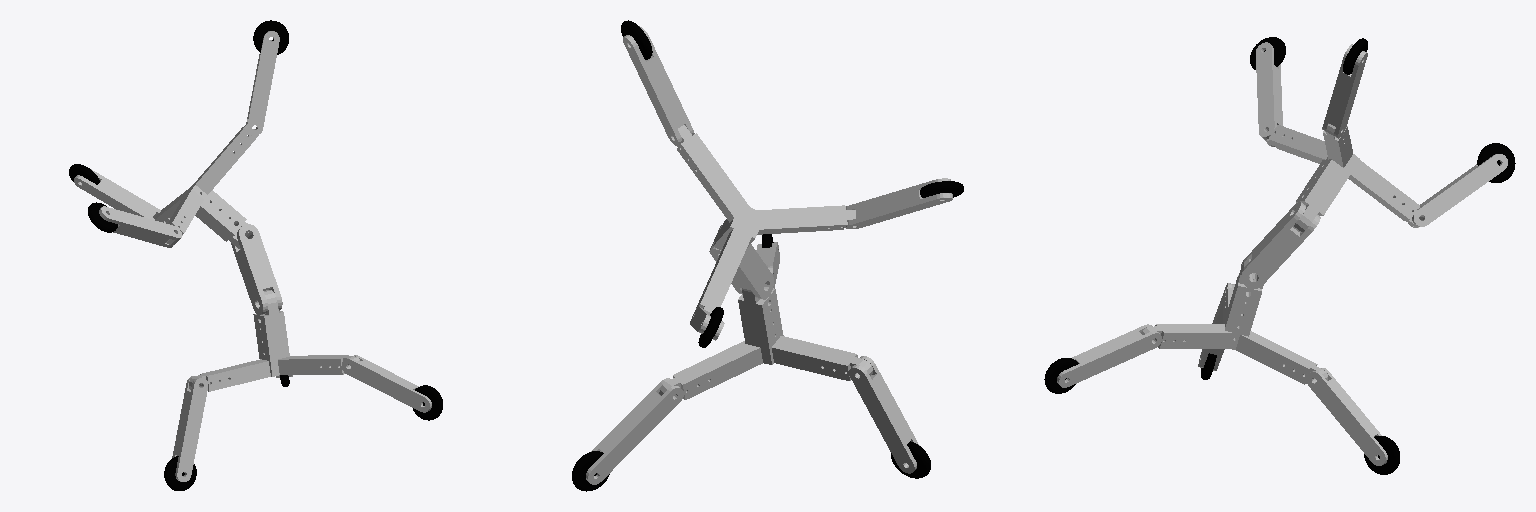
robot.urdf — robot2:
<?xml version="1.0" encoding="utf-8"?>
<!-- This URDF was automatically created by SolidWorks to URDF Exporter! Originally created by [author] ([email redacted]) 
     Commit Version: 1.5.0-0-g9aa0fdb  Build Version: 1.5.7004.21443
     For more information, please see http://wiki.ros.org/sw_urdf_exporter -->
<robot
  name="robot2">
  <link
    name="base_link">
    <inertial>
      <origin
        xyz="0.0013253 -0.025154 -0.093447"
        rpy="0 0 0" />
      <mass
        value="0.12947" />
      <inertia
        ixx="0.00021534"
        ixy="-2.1268E-08"
        ixz="-7.7687E-08"
        iyy="0.00022183"
        iyz="2.4937E-05"
        izz="0.00030609" />
    </inertial>
    <visual>
      <origin
        xyz="0 0 0"
        rpy="0 0 0" />
      <geometry>
        <mesh
          filename="package://robot2/meshes/base_link.STL" />
      </geometry>
      <material
        name="">
        <color
          rgba="0.74902 0.74902 0.74902 1" />
      </material>
    </visual>
    <collision>
      <origin
        xyz="0 0 0"
        rpy="0 0 0" />
      <geometry>
        <mesh
          filename="package://robot2/meshes/base_link.STL" />
      </geometry>
    </collision>
  </link>
  <link
    name="connector">
    <inertial>
      <origin
        xyz="-0.00138 -0.038 5.2042E-18"
        rpy="0 0 0" />
      <mass
        value="0.04386" />
      <inertia
        ixx="2.6136E-05"
        ixy="1.1316E-20"
        ixz="-6.0877E-22"
        iyy="5.047E-06"
        iyz="2.9646E-21"
        izz="2.6136E-05" />
    </inertial>
    <visual>
      <origin
        xyz="0 0 0"
        rpy="0 0 0" />
      <geometry>
        <mesh
          filename="package://robot2/meshes/connector.STL" />
      </geometry>
      <material
        name="">
        <color
          rgba="0.74902 0.74902 0.74902 1" />
      </material>
    </visual>
    <collision>
      <origin
        xyz="0 0 0"
        rpy="0 0 0" />
      <geometry>
        <mesh
          filename="package://robot2/meshes/connector.STL" />
      </geometry>
    </collision>
  </link>
  <joint
    name="connector_j"
    type="revolute">
    <origin
      xyz="0 -0.0090129 -0.034486"
      rpy="-1.3093 0 -3.1416" />
    <parent
      link="base_link" />
    <child
      link="connector" />
    <axis
      xyz="1 0 0" />
    <limit
      lower="0.35"
      upper="0.5225"
      effort="22"
      velocity="22" />
    <safety_controller
      k_velocity="0" />
  </joint>
  <link
    name="base2">
    <inertial>
      <origin
        xyz="-5.4721E-05 -0.061131 6.5919E-17"
        rpy="0 0 0" />
      <mass
        value="0.12947" />
      <inertia
        ixx="0.00021534"
        ixy="-8.0545E-08"
        ixz="-9.7832E-20"
        iyy="0.00031292"
        iyz="1.4791E-19"
        izz="0.000215" />
    </inertial>
    <visual>
      <origin
        xyz="0 0 0"
        rpy="0 0 0" />
      <geometry>
        <mesh
          filename="package://robot2/meshes/base2.STL" />
      </geometry>
      <material
        name="">
        <color
          rgba="0.74902 0.74902 0.74902 1" />
      </material>
    </visual>
    <collision>
      <origin
        xyz="0 0 0"
        rpy="0 0 0" />
      <geometry>
        <mesh
          filename="package://robot2/meshes/base2.STL" />
      </geometry>
    </collision>
  </link>
  <joint
    name="base2j"
    type="revolute">
    <origin
      xyz="-0.00138 -0.076 0"
      rpy="2.4292 -1.5708 -2.2633" />
    <parent
      link="connector" />
    <child
      link="base2" />
    <axis
      xyz="1 0 0" />
    <limit
      lower="0.35"
      upper="0.5225"
      effort="22"
      velocity="22" />
    <safety_controller
      k_velocity="0" />
  </joint>
  <link
    name="L21">
    <inertial>
      <origin
        xyz="-1.94289029309402E-16 0.0480327393085786 -1.04083408558608E-17"
        rpy="0 0 0" />
      <mass
        value="0.0296452830345854" />
      <inertia
        ixx="2.50173044319522E-05"
        ixy="7.59682674568701E-21"
        ixz="1.05879118406788E-22"
        iyy="1.72590748901238E-06"
        iyz="2.5146290621612E-22"
        izz="2.48865166741963E-05" />
    </inertial>
    <visual>
      <origin
        xyz="0 0 0"
        rpy="0 0 0" />
      <geometry>
        <mesh
          filename="package://robot2/meshes/L21.STL" />
      </geometry>
      <material
        name="">
        <color
          rgba="0.749019607843137 0.749019607843137 0.749019607843137 1" />
      </material>
    </visual>
    <collision>
      <origin
        xyz="0 0 0"
        rpy="0 0 0" />
      <geometry>
        <mesh
          filename="package://robot2/meshes/L21.STL" />
      </geometry>
    </collision>
  </link>
  <joint
    name="L21j"
    type="revolute">
    <origin
      xyz="-0.1 -0.0725 0"
      rpy="-3.1416 0 0.069166" />
    <parent
      link="base2" />
    <child
      link="L21" />
    <axis
      xyz="0 0 1" />
    <limit
      lower="0.35"
      upper="0.5225"
      effort="22"
      velocity="22" />
    <safety_controller
      k_velocity="0" />
  </joint>
  <link
    name="W21">
    <inertial>
      <origin
        xyz="-1.02348685082632E-16 -4.44089209850063E-16 3.60822483003176E-16"
        rpy="0 0 0" />
      <mass
        value="0.0100179652990868" />
      <inertia
        ixx="1.88435757818629E-06"
        ixy="4.5908523996693E-23"
        ixz="-5.98878763488392E-22"
        iyy="1.00354188062962E-06"
        iyz="-5.29395592033938E-23"
        izz="1.00354188062962E-06" />
    </inertial>
    <visual>
      <origin
        xyz="0 0 0"
        rpy="0 0 0" />
      <geometry>
        <mesh
          filename="package://robot2/meshes/W21.STL" />
      </geometry>
      <material
        name="">
        <color
          rgba="0.0196078431372549 0.0196078431372549 0.0196078431372549 1" />
      </material>
    </visual>
    <collision>
      <origin
        xyz="0 0 0"
        rpy="0 0 0" />
      <geometry>
        <mesh
          filename="package://robot2/meshes/W21.STL" />
      </geometry>
    </collision>
  </link>
  <joint
    name="W21j"
    type="continuous">
    <origin
      xyz="0 0.1 0"
      rpy="-2.3969 -1.5708 -1.0967" />
    <parent
      link="L21" />
    <child
      link="W21" />
    <axis
      xyz="1 0 0" />
    <safety_controller
      k_velocity="0" />
  </joint>
  <link
    name="L22">
    <inertial>
      <origin
        xyz="-4.5102810375397E-17 0.0480327393085786 -1.73472347597681E-18"
        rpy="0 0 0" />
      <mass
        value="0.0296452830345854" />
      <inertia
        ixx="2.50173044319522E-05"
        ixy="1.63450889040478E-20"
        ixz="0"
        iyy="1.72590748901238E-06"
        iyz="-1.73641754187132E-20"
        izz="2.48865166741963E-05" />
    </inertial>
    <visual>
      <origin
        xyz="0 0 0"
        rpy="0 0 0" />
      <geometry>
        <mesh
          filename="package://robot2/meshes/L22.STL" />
      </geometry>
      <material
        name="">
        <color
          rgba="0.749019607843137 0.749019607843137 0.749019607843137 1" />
      </material>
    </visual>
    <collision>
      <origin
        xyz="0 0 0"
        rpy="0 0 0" />
      <geometry>
        <mesh
          filename="package://robot2/meshes/L22.STL" />
      </geometry>
    </collision>
  </link>
  <joint
    name="L22j"
    type="revolute">
    <origin
      xyz="0.05 -0.0725 0.086603"
      rpy="0.78091 0.78985 -2.1926" />
    <parent
      link="base2" />
    <child
      link="L22" />
    <axis
      xyz="0 0 1" />
    <limit
      lower="0.35"
      upper="0.5225"
      effort="22"
      velocity="22" />
    <safety_controller
      k_velocity="0" />
  </joint>
  <link
    name="W22">
    <inertial>
      <origin
        xyz="-6.59194920871187E-17 2.77555756156289E-17 0"
        rpy="0 0 0" />
      <mass
        value="0.0100179652990868" />
      <inertia
        ixx="1.88435757818628E-06"
        ixy="-2.38228016415272E-22"
        ixz="-5.02925812432241E-22"
        iyy="1.00354188062962E-06"
        iyz="-6.61744490042422E-23"
        izz="1.00354188062962E-06" />
    </inertial>
    <visual>
      <origin
        xyz="0 0 0"
        rpy="0 0 0" />
      <geometry>
        <mesh
          filename="package://robot2/meshes/W22.STL" />
      </geometry>
      <material
        name="">
        <color
          rgba="0.0196078431372549 0.0196078431372549 0.0196078431372549 1" />
      </material>
    </visual>
    <collision>
      <origin
        xyz="0 0 0"
        rpy="0 0 0" />
      <geometry>
        <mesh
          filename="package://robot2/meshes/W22.STL" />
      </geometry>
    </collision>
  </link>
  <joint
    name="W22j"
    type="continuous">
    <origin
      xyz="0 0.1 0"
      rpy="0.85821 -1.5708 0" />
    <parent
      link="L22" />
    <child
      link="W22" />
    <axis
      xyz="1 0 0" />
    <safety_controller
      k_velocity="0" />
  </joint>
  <link
    name="L23">
    <inertial>
      <origin
        xyz="4.16333634234434E-17 0.0480327393085786 6.24500451351651E-17"
        rpy="0 0 0" />
      <mass
        value="0.0296452830345854" />
      <inertia
        ixx="2.50173044319522E-05"
        ixy="-2.01170324972896E-21"
        ixz="0"
        iyy="1.72590748901238E-06"
        iyz="-5.43953970814871E-21"
        izz="2.48865166741963E-05" />
    </inertial>
    <visual>
      <origin
        xyz="0 0 0"
        rpy="0 0 0" />
      <geometry>
        <mesh
          filename="package://robot2/meshes/L23.STL" />
      </geometry>
      <material
        name="">
        <color
          rgba="0.749019607843137 0.749019607843137 0.749019607843137 1" />
      </material>
    </visual>
    <collision>
      <origin
        xyz="0 0 0"
        rpy="0 0 0" />
      <geometry>
        <mesh
          filename="package://robot2/meshes/L23.STL" />
      </geometry>
    </collision>
  </link>
  <joint
    name="L23j"
    type="revolute">
    <origin
      xyz="0.05 -0.0725 -0.086603"
      rpy="-0.40164 -0.99652 -2.6733" />
    <parent
      link="base2" />
    <child
      link="L23" />
    <axis
      xyz="0 0 1" />
    <limit
      lower="0.35"
      upper="0.5225"
      effort="22"
      velocity="22" />
    <safety_controller
      k_velocity="0" />
  </joint>
  <link
    name="W23">
    <inertial>
      <origin
        xyz="1.69135538907739E-16 2.77555756156289E-17 0"
        rpy="0 0 0" />
      <mass
        value="0.0100179652990868" />
      <inertia
        ixx="1.88435757818629E-06"
        ixy="4.2351647362715E-22"
        ixz="2.64697796016969E-23"
        iyy="1.00354188062962E-06"
        iyz="-6.61744490042422E-24"
        izz="1.00354188062962E-06" />
    </inertial>
    <visual>
      <origin
        xyz="0 0 0"
        rpy="0 0 0" />
      <geometry>
        <mesh
          filename="package://robot2/meshes/W23.STL" />
      </geometry>
      <material
        name="">
        <color
          rgba="0.0196078431372549 0.0196078431372549 0.0196078431372549 1" />
      </material>
    </visual>
    <collision>
      <origin
        xyz="0 0 0"
        rpy="0 0 0" />
      <geometry>
        <mesh
          filename="package://robot2/meshes/W23.STL" />
      </geometry>
    </collision>
  </link>
  <joint
    name="W23j"
    type="continuous">
    <origin
      xyz="0 0.1 0"
      rpy="3.0968 -1.5708 0" />
    <parent
      link="L23" />
    <child
      link="W23" />
    <axis
      xyz="1 0 0" />
    <safety_controller
      k_velocity="0" />
  </joint>
  <link
    name="L11">
    <inertial>
      <origin
        xyz="1.1102E-16 0.048033 0.000413"
        rpy="0 0 0" />
      <mass
        value="0.029645" />
      <inertia
        ixx="2.5017E-05"
        ixy="-1.2012E-20"
        ixz="1.3235E-22"
        iyy="1.7259E-06"
        iyz="1.5617E-21"
        izz="2.4887E-05" />
    </inertial>
    <visual>
      <origin
        xyz="0 0 0"
        rpy="0 0 0" />
      <geometry>
        <mesh
          filename="package://robot2/meshes/L11.STL" />
      </geometry>
      <material
        name="">
        <color
          rgba="0.74902 0.74902 0.74902 1" />
      </material>
    </visual>
    <collision>
      <origin
        xyz="0 0 0"
        rpy="0 0 0" />
      <geometry>
        <mesh
          filename="package://robot2/meshes/L11.STL" />
      </geometry>
    </collision>
  </link>
  <joint
    name="L11j"
    type="revolute">
    <origin
      xyz="-0.09862 -0.028555 -0.1043"
      rpy="-1.8386 -0.066707 0.01829" />
    <parent
      link="base_link" />
    <child
      link="L11" />
    <axis
      xyz="0 0 1" />
    <limit
      lower="0.35"
      upper="0.5225"
      effort="22"
      velocity="22" />
    <safety_controller
      k_velocity="0" />
  </joint>
  <link
    name="W11">
    <inertial>
      <origin
        xyz="0.00041299743286035 -2.77555756156289E-17 0"
        rpy="0 0 0" />
      <mass
        value="0.0100179652990868" />
      <inertia
        ixx="1.88435757818629E-06"
        ixy="1.85288457211878E-22"
        ixz="3.30872245021211E-23"
        iyy="1.00354188062962E-06"
        iyz="1.48892510259545E-22"
        izz="1.00354188062962E-06" />
    </inertial>
    <visual>
      <origin
        xyz="0 0 0"
        rpy="0 0 0" />
      <geometry>
        <mesh
          filename="package://robot2/meshes/W11.STL" />
      </geometry>
      <material
        name="">
        <color
          rgba="0.0196078431372549 0.0196078431372549 0.0196078431372549 1" />
      </material>
    </visual>
    <collision>
      <origin
        xyz="0 0 0"
        rpy="0 0 0" />
      <geometry>
        <mesh
          filename="package://robot2/meshes/W11.STL" />
      </geometry>
    </collision>
  </link>
  <joint
    name="W11j"
    type="continuous">
    <origin
      xyz="0 0.1 0"
      rpy="0.34397 -1.5708 0" />
    <parent
      link="L11" />
    <child
      link="W11" />
    <axis
      xyz="1 0 0" />
    <safety_controller
      k_velocity="0" />
  </joint>
  <link
    name="L12">
    <inertial>
      <origin
        xyz="-2.7756E-17 0.048033 -0.0014016"
        rpy="0 0 0" />
      <mass
        value="0.029645" />
      <inertia
        ixx="2.5017E-05"
        ixy="4.5528E-21"
        ixz="-1.6941E-21"
        iyy="1.7259E-06"
        iyz="1.3235E-21"
        izz="2.4887E-05" />
    </inertial>
    <visual>
      <origin
        xyz="0 0 0"
        rpy="0 0 0" />
      <geometry>
        <mesh
          filename="package://robot2/meshes/L12.STL" />
      </geometry>
      <material
        name="">
        <color
          rgba="0.74902 0.74902 0.74902 1" />
      </material>
    </visual>
    <collision>
      <origin
        xyz="0 0 0"
        rpy="0 0 0" />
      <geometry>
        <mesh
          filename="package://robot2/meshes/L12.STL" />
      </geometry>
    </collision>
  </link>
  <joint
    name="L12j"
    type="revolute">
    <origin
      xyz="0.050166 -0.11236 -0.081361"
      rpy="-1.3563 0.9018 2.2482" />
    <parent
      link="base_link" />
    <child
      link="L12" />
    <axis
      xyz="0 0 1" />
    <limit
      lower="0.35"
      upper="0.5225"
      effort="22"
      velocity="22" />
    <safety_controller
      k_velocity="0" />
  </joint>
  <link
    name="W12">
    <inertial>
      <origin
        xyz="-0.00140159101980956 2.77555756156289E-17 0"
        rpy="0 0 0" />
      <mass
        value="0.0100179652990868" />
      <inertia
        ixx="1.88435757818628E-06"
        ixy="1.32348898008484E-22"
        ixz="1.42275065359121E-21"
        iyy="1.00354188062962E-06"
        iyz="-1.98523347012727E-23"
        izz="1.00354188062962E-06" />
    </inertial>
    <visual>
      <origin
        xyz="0 0 0"
        rpy="0 0 0" />
      <geometry>
        <mesh
          filename="package://robot2/meshes/W12.STL" />
      </geometry>
      <material
        name="">
        <color
          rgba="0.0196078431372549 0.0196078431372549 0.0196078431372549 1" />
      </material>
    </visual>
    <collision>
      <origin
        xyz="0 0 0"
        rpy="0 0 0" />
      <geometry>
        <mesh
          filename="package://robot2/meshes/W12.STL" />
      </geometry>
    </collision>
  </link>
  <joint
    name="W12j"
    type="continuous">
    <origin
      xyz="0 0.1 0"
      rpy="2.4078 -1.5708 0" />
    <parent
      link="L12" />
    <child
      link="W12" />
    <axis
      xyz="1 0 0" />
    <safety_controller
      k_velocity="0" />
  </joint>
  <link
    name="L13">
    <inertial>
      <origin
        xyz="-6.93889390390723E-18 0.0480327393085787 0.000988593586949253"
        rpy="0 0 0" />
      <mass
        value="0.0296452830345854" />
      <inertia
        ixx="2.50173044319522E-05"
        ixy="6.08804930839028E-21"
        ixz="-1.6940658945086E-21"
        iyy="1.72590748901238E-06"
        iyz="-1.04290931630686E-20"
        izz="2.48865166741963E-05" />
    </inertial>
    <visual>
      <origin
        xyz="0 0 0"
        rpy="0 0 0" />
      <geometry>
        <mesh
          filename="package://robot2/meshes/L13.STL" />
      </geometry>
      <material
        name="">
        <color
          rgba="0.749019607843137 0.749019607843137 0.749019607843137 1" />
      </material>
    </visual>
    <collision>
      <origin
        xyz="0 0 0"
        rpy="0 0 0" />
      <geometry>
        <mesh
          filename="package://robot2/meshes/L13.STL" />
      </geometry>
    </collision>
  </link>
  <joint
    name="L13j"
    type="revolute">
    <origin
      xyz="0.050524 0.055849 -0.12741"
      rpy="-1.4244 0.43865 -2.0164" />
    <parent
      link="base_link" />
    <child
      link="L13" />
    <axis
      xyz="0 0 1" />
    <limit
      lower="0.35"
      upper="0.5225"
      effort="22"
      velocity="22" />
    <safety_controller
      k_velocity="0" />
  </joint>
  <link
    name="W13">
    <inertial>
      <origin
        xyz="0.00098859 3.0531E-16 -4.996E-16"
        rpy="0 0 0" />
      <mass
        value="0.010018" />
      <inertia
        ixx="1.8844E-06"
        ixy="2.5808E-22"
        ixz="4.4999E-22"
        iyy="1.0035E-06"
        iyz="-1.3235E-23"
        izz="1.0035E-06" />
    </inertial>
    <visual>
      <origin
        xyz="0 0 0"
        rpy="0 0 0" />
      <geometry>
        <mesh
          filename="package://robot2/meshes/W13.STL" />
      </geometry>
      <material
        name="">
        <color
          rgba="0.019608 0.019608 0.019608 1" />
      </material>
    </visual>
    <collision>
      <origin
        xyz="0 0 0"
        rpy="0 0 0" />
      <geometry>
        <mesh
          filename="package://robot2/meshes/W13.STL" />
      </geometry>
    </collision>
  </link>
  <joint
    name="W13j"
    type="continuous">
    <origin
      xyz="0 0.1 0"
      rpy="0.50024 -1.5708 0" />
    <parent
      link="L13" />
    <child
      link="W13" />
    <axis
      xyz="1 0 0" />
    <safety_controller
      k_velocity="0" />
  </joint>
</robot>

--- Render facts (derived) ---
The picture shows the robot from 3 angles, left to right: view 1: azimuth 30°, elevation 25°; view 2: azimuth 150°, elevation 25°; view 3: azimuth 270°, elevation 25°; orthographic projection.
Model robot2 with 15 links and 14 joints (8 revolute, 6 continuous), rooted at base_link, posed all joints at 0 but 8 set to mid-range because 0 is outside their limits (connector_j = 0.4363, base2j = 0.4363, L21j = 0.4363, L22j = 0.4363, L23j = 0.4363, L11j = 0.4363, +2 more).
Visible links, largest first — view 1: base_link, base2, connector, L11, L12, L22, L23, L21, W22, W12, W11; view 2: base2, base_link, L13, L11, L22, L23, connector, W13, W11, W22, W23; view 3: base2, base_link, connector, L13, L12, L21, L23, L22, W21, W13, W12.
Boxes of the visible links, left/top/right/bottom form: base_link: left=189, top=290, right=360, bottom=391; base2: left=154, top=123, right=258, bottom=249; connector: left=231, top=224, right=282, bottom=314; L11: left=172, top=376, right=207, bottom=481; L12: left=342, top=355, right=431, bottom=412; L22: left=246, top=31, right=279, bottom=135; L23: left=99, top=206, right=182, bottom=247; L21: left=74, top=169, right=160, bottom=219; W22: left=253, top=20, right=288, bottom=54; W12: left=413, top=385, right=442, bottom=420; W11: left=164, top=456, right=196, bottom=490; base2: left=677, top=125, right=855, bottom=312; base_link: left=659, top=285, right=873, bottom=399; L13: left=586, top=378, right=683, bottom=484; L11: left=849, top=356, right=919, bottom=473; L22: left=623, top=26, right=694, bottom=146; L23: left=845, top=178, right=952, bottom=228; connector: left=709, top=225, right=773, bottom=299; W13: left=572, top=451, right=609, bottom=491; W11: left=891, top=441, right=930, bottom=478; W22: left=621, top=20, right=652, bottom=59; W23: left=920, top=181, right=963, bottom=197; base2: left=1264, top=124, right=1422, bottom=232; base_link: left=1141, top=259, right=1327, bottom=384; connector: left=1241, top=202, right=1320, bottom=288; L13: left=1306, top=368, right=1387, bottom=465; L12: left=1057, top=324, right=1161, bottom=387; L21: left=1408, top=154, right=1507, bottom=227; L23: left=1256, top=42, right=1282, bottom=146; L22: left=1322, top=44, right=1367, bottom=138; W21: left=1477, top=143, right=1515, bottom=182; W13: left=1364, top=436, right=1399, bottom=474; W12: left=1044, top=358, right=1078, bottom=393.
Bounding box of the posed robot: 0.3273 × 0.4671 × 0.4641 m (x, y, z).
Meshes: 15 distinct files referenced, 15 mesh visuals loaded (15 binary STL).